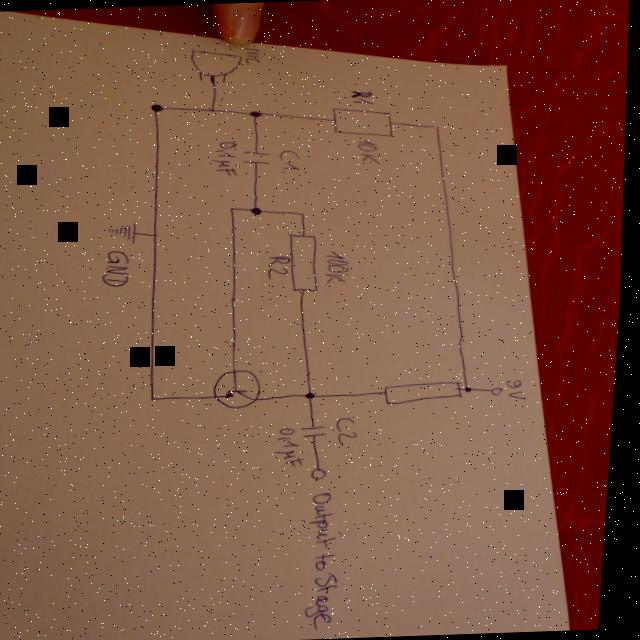capacitor: (240, 146, 276, 167), (303, 421, 334, 442)
ground: (110, 222, 143, 244)
junction: (308, 388, 324, 401), (250, 205, 267, 215), (249, 109, 264, 120), (151, 102, 165, 112), (467, 384, 480, 392), (151, 230, 163, 238), (152, 394, 163, 402), (230, 204, 239, 212), (301, 210, 310, 217), (209, 106, 218, 112), (434, 123, 442, 129)
resistor: (330, 104, 398, 138), (288, 232, 325, 292), (387, 380, 469, 404)
terminal: (314, 464, 337, 480), (494, 386, 508, 396)
text: (305, 490, 356, 632), (278, 425, 311, 467), (103, 248, 135, 288), (211, 140, 242, 177), (326, 248, 355, 285), (267, 253, 296, 280), (356, 135, 383, 164), (340, 415, 366, 445), (509, 378, 534, 402), (280, 148, 306, 170), (348, 86, 376, 105), (243, 45, 263, 66)
transistor: (216, 366, 268, 412)
